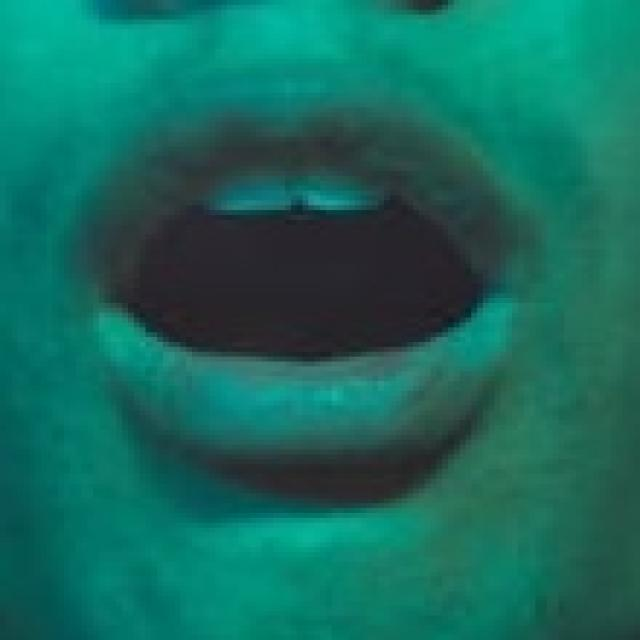open-mouth: (70, 88, 542, 504)
